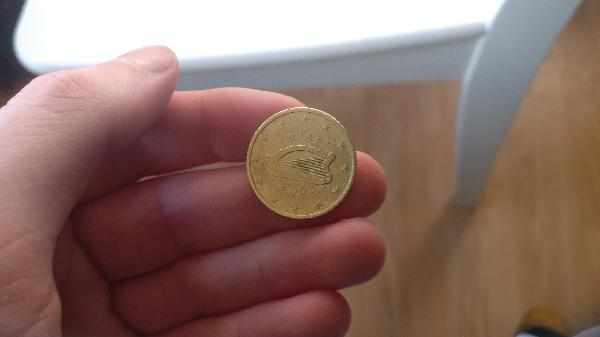Fifty Cent: (245, 106, 360, 220)
